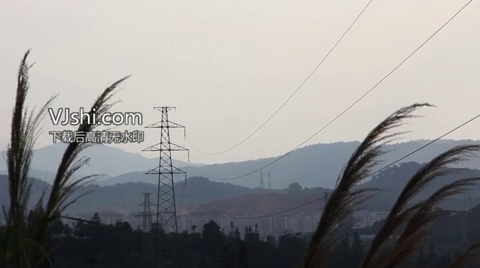tower_body: (145, 103, 188, 237)
tower_foot: (157, 209, 180, 234)
tower_head: (152, 106, 177, 113)
